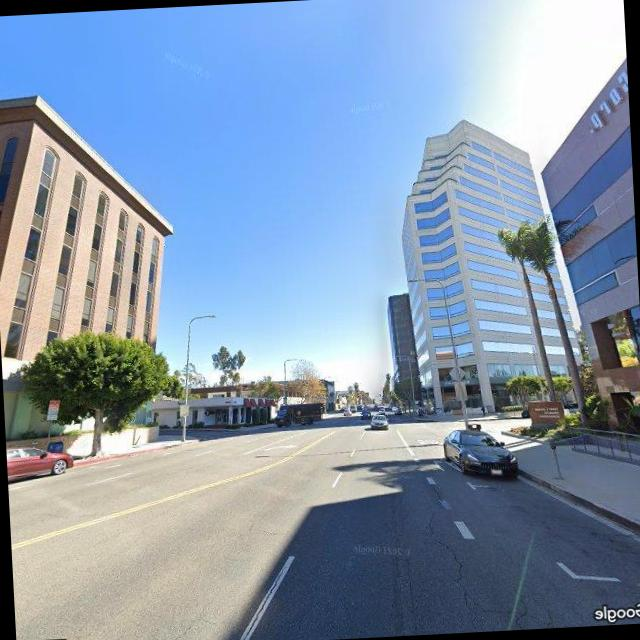pothole: (423, 505, 486, 628)
